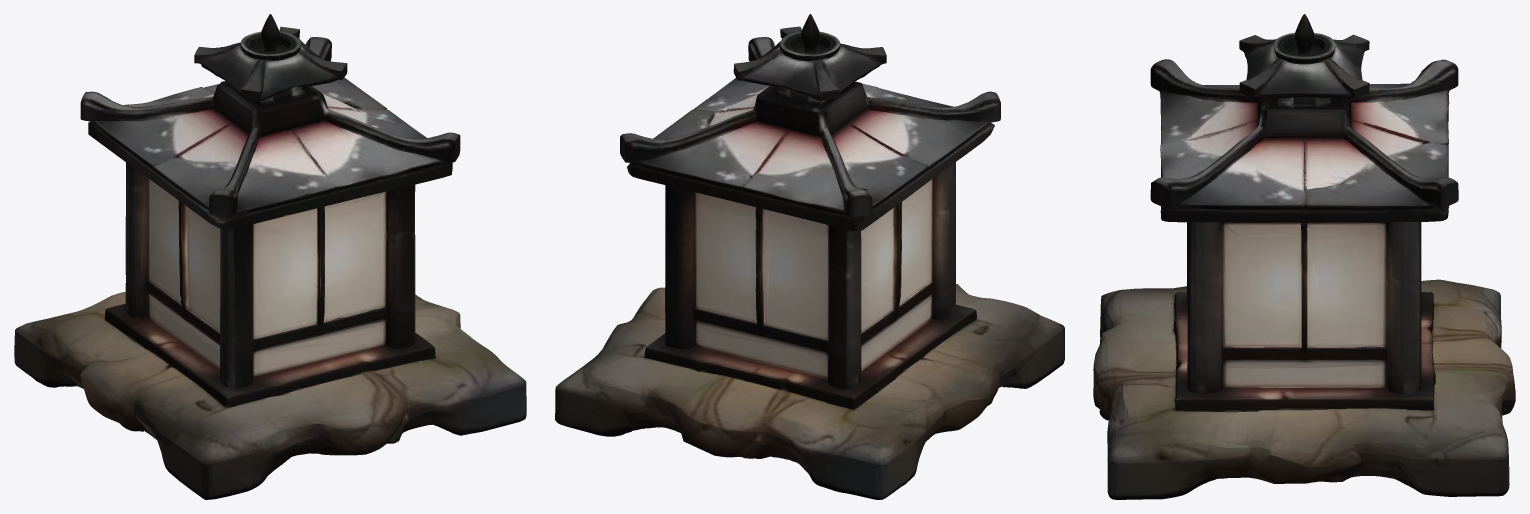
The model's file is prop_amatsu_lantern.glb.
3 views of the same model, side by side, from view 1: azimuth 30°, elevation 25°; view 2: azimuth 150°, elevation 25°; view 3: azimuth 270°, elevation 25° (orthographic). The views are drawn at different scales.
Parts seen in each view (by area): view 1: geometry_0; view 2: geometry_0; view 3: geometry_0.
Part boxes in pixels (bbox=[...]): geometry_0: bbox=[14, 14, 526, 499]; geometry_0: bbox=[555, 14, 1064, 499]; geometry_0: bbox=[1093, 14, 1515, 499].
Bounding box in the file's own units: 0.9595 × 0.9995 × 0.951.
Materials: 1 (1 with a texture image).
